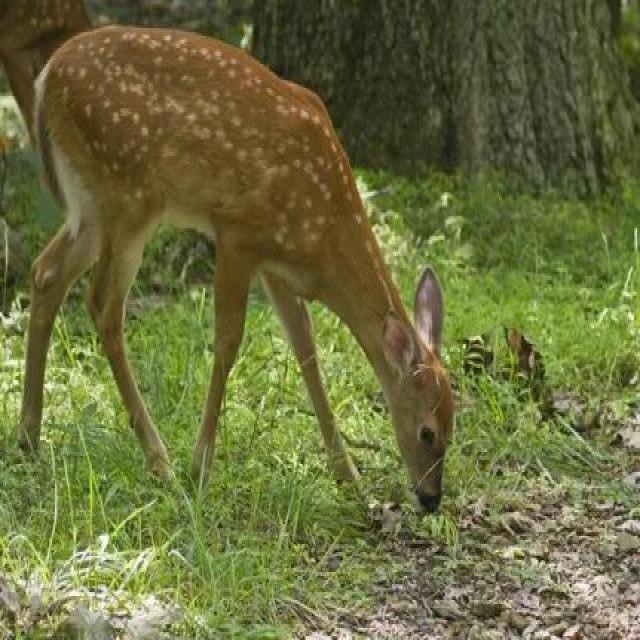deer: (29, 18, 520, 514)
